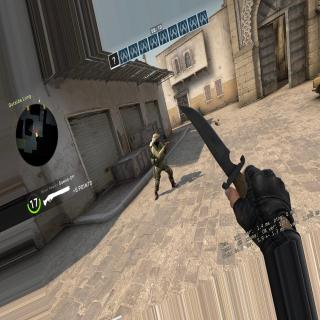CT-Body: (146, 130, 180, 198)
CT-Head: (152, 133, 162, 144)
